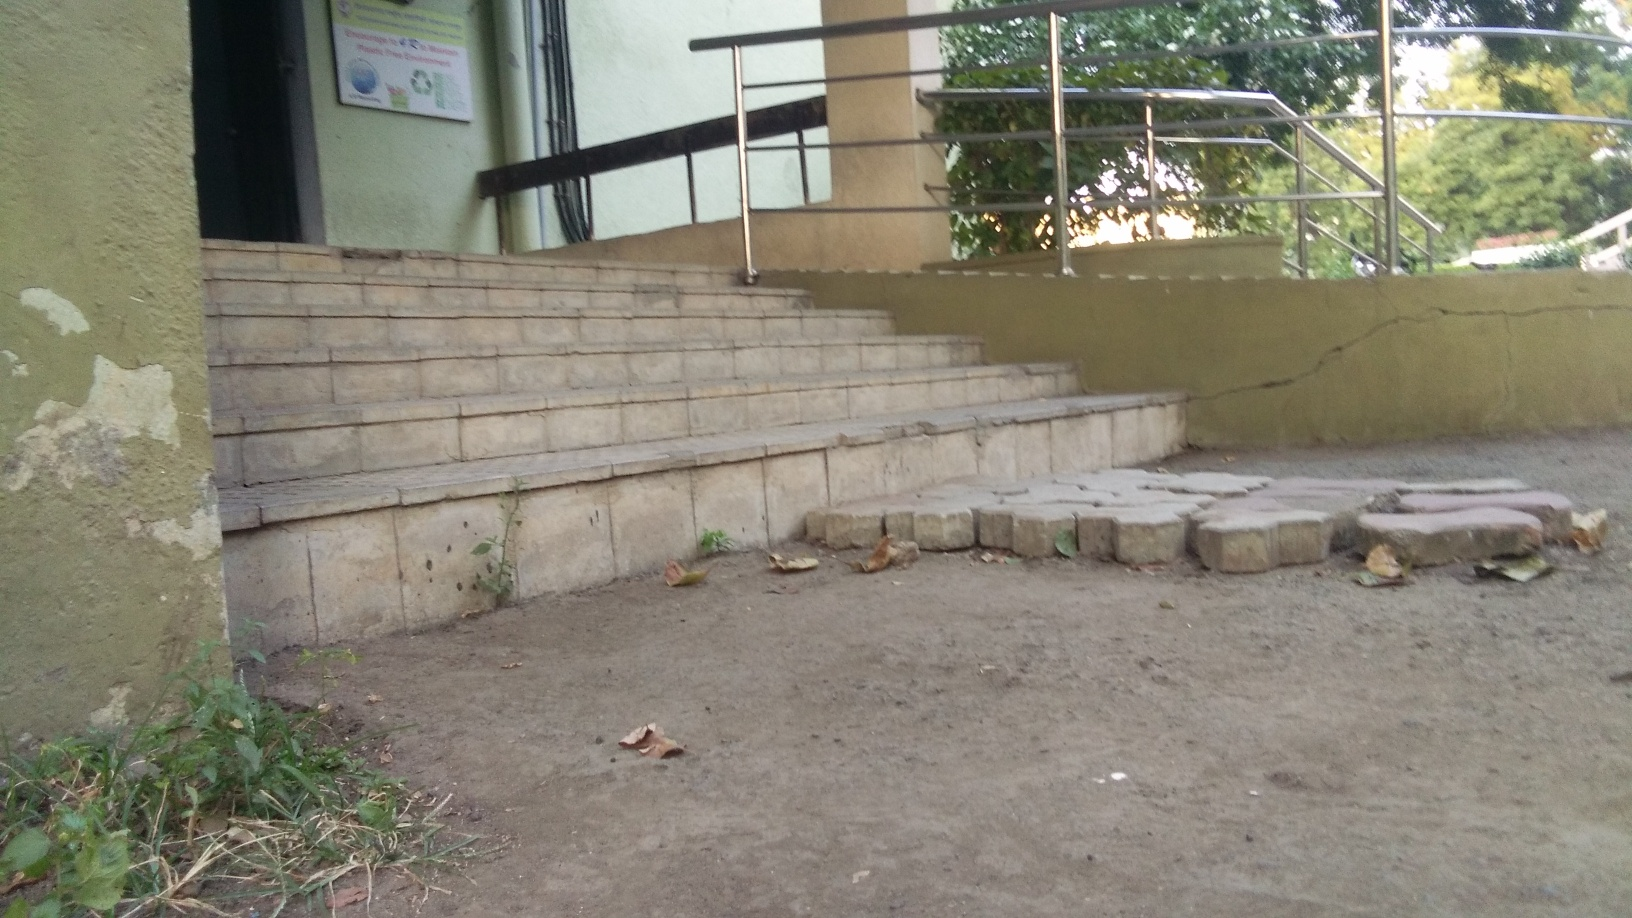stairs_up: (202, 224, 1189, 624)
